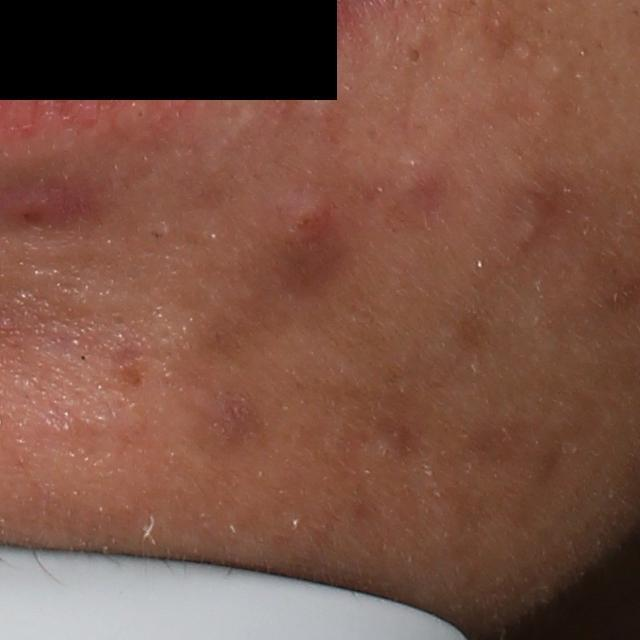comedo: (510, 217, 537, 246), (404, 45, 426, 66)
papule: (375, 146, 451, 234), (265, 189, 335, 270), (15, 188, 89, 223)
